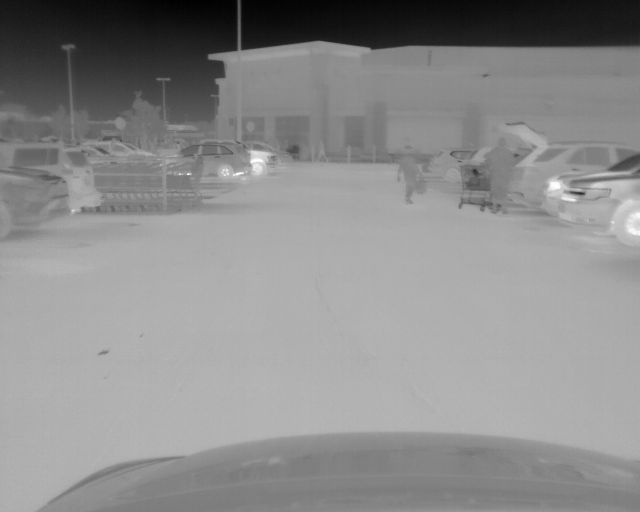car: (500, 123, 637, 204), (557, 150, 640, 247), (3, 143, 101, 209), (1, 164, 69, 241), (177, 142, 253, 178), (431, 146, 477, 182), (99, 138, 151, 158), (246, 147, 278, 177)
people: (397, 144, 426, 203)
